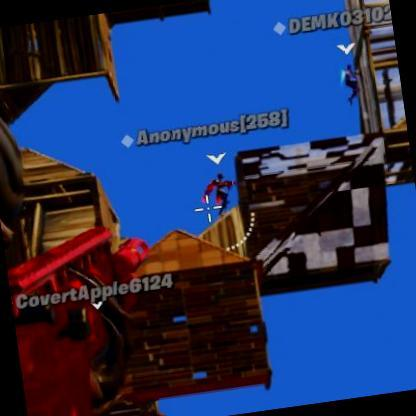person: (336, 58, 361, 98), (208, 174, 231, 214)
